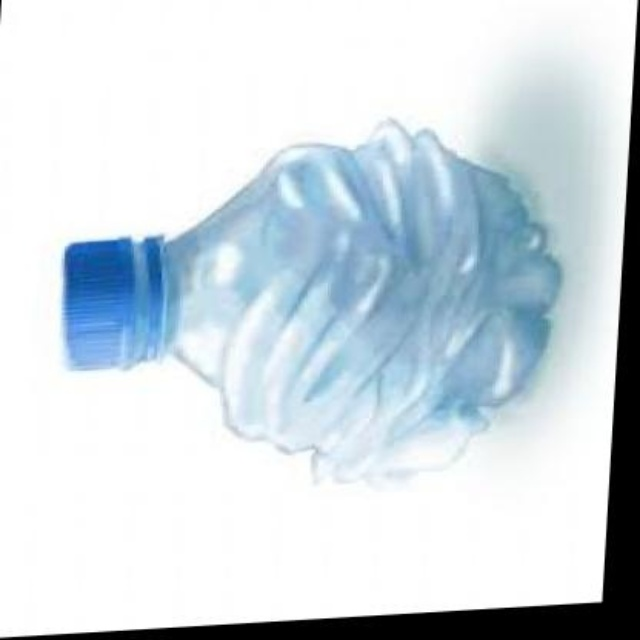trash: (63, 120, 558, 480)
